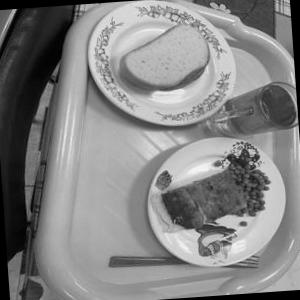bread: (110, 20, 218, 100)
casserole: (158, 152, 274, 247)
tea: (213, 70, 295, 156)
